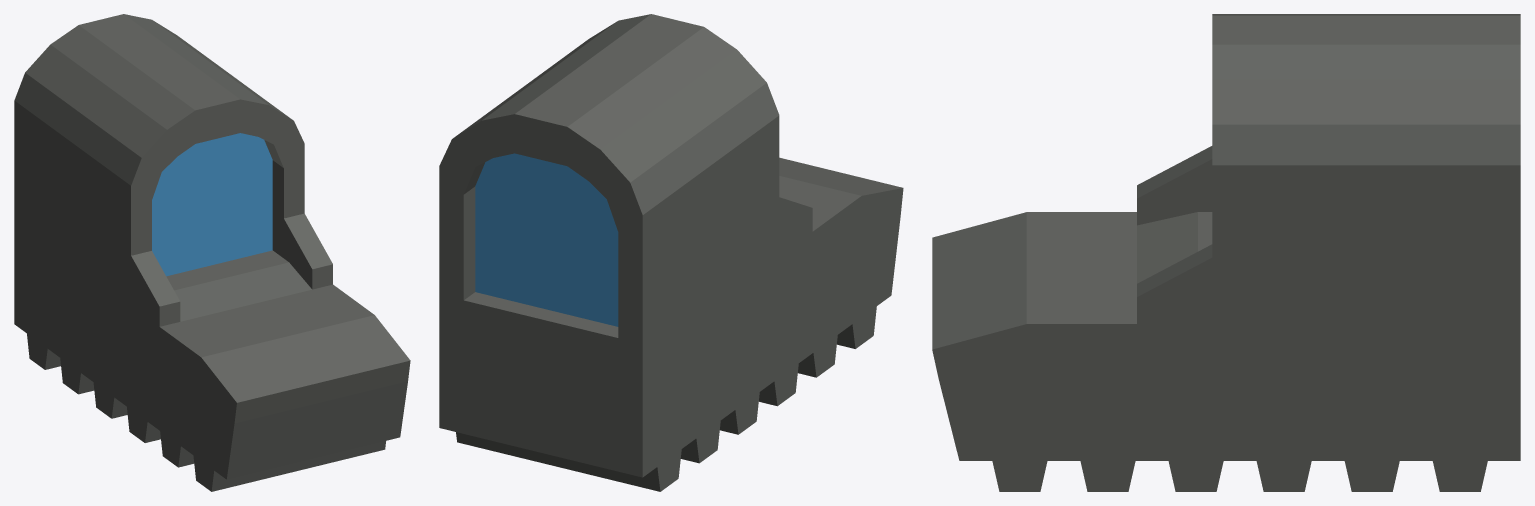
File: Holographic_sight.fbx
3 views of the same model, side by side, from view 1: azimuth 30°, elevation 25°; view 2: azimuth 150°, elevation 25°; view 3: azimuth 270°, elevation 25° (orthographic). The views are drawn at different scales.
Parts seen in each view (by area): view 1: Holographic_sight, Holographic_sight.001; view 2: Holographic_sight, Holographic_sight.001; view 3: Holographic_sight.
Boxes of the visible parts, left/top/right/bottom form: Holographic_sight: left=14, top=14, right=410, bottom=491; Holographic_sight.001: left=152, top=133, right=272, bottom=276; Holographic_sight: left=439, top=14, right=903, bottom=491; Holographic_sight.001: left=475, top=153, right=618, bottom=326; Holographic_sight: left=932, top=14, right=1520, bottom=491.
Bounding box in the file's own units: 25.25 × 42.68 × 56.1.
